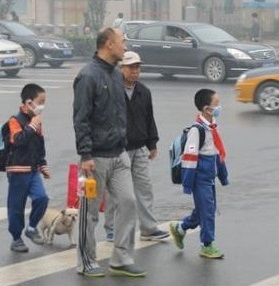person: (73, 27, 148, 280), (168, 86, 235, 261), (112, 45, 169, 242), (1, 82, 56, 255)
